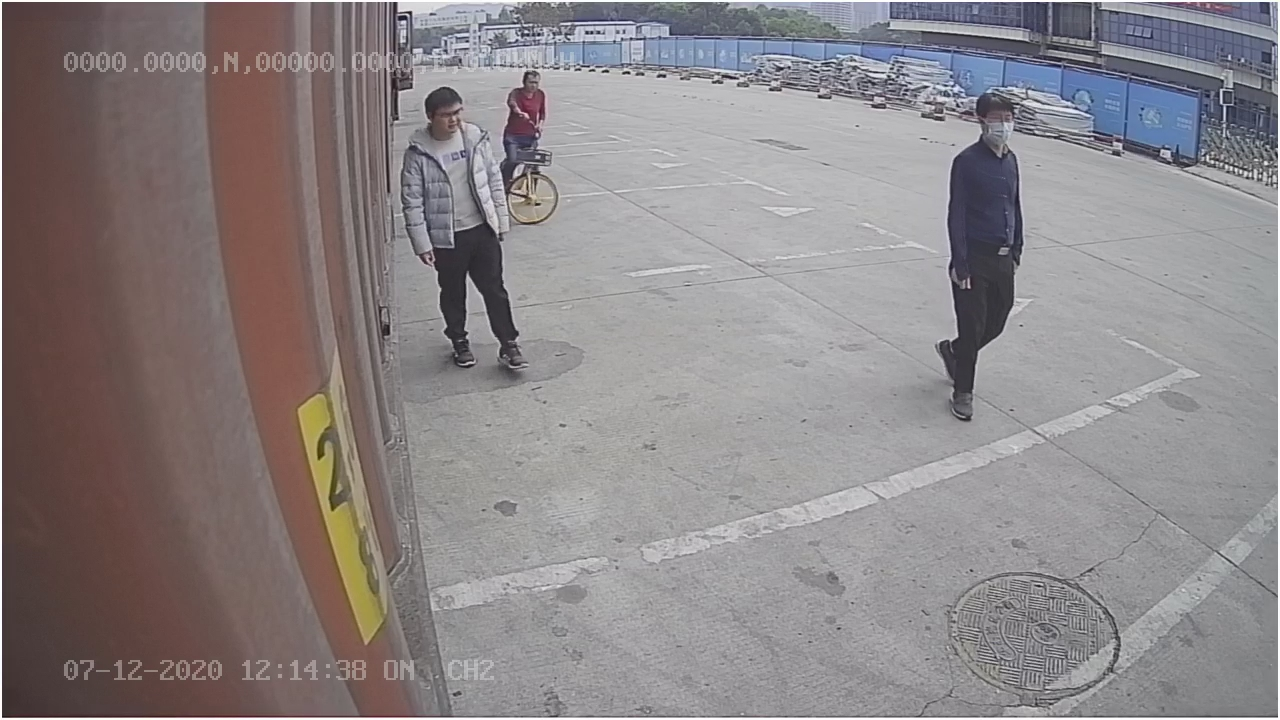person: (925, 81, 1036, 422)
